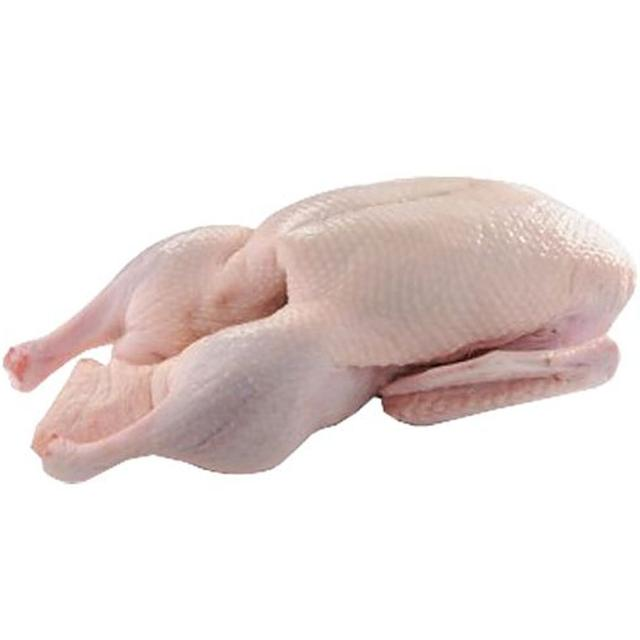duck: (5, 178, 632, 482)
